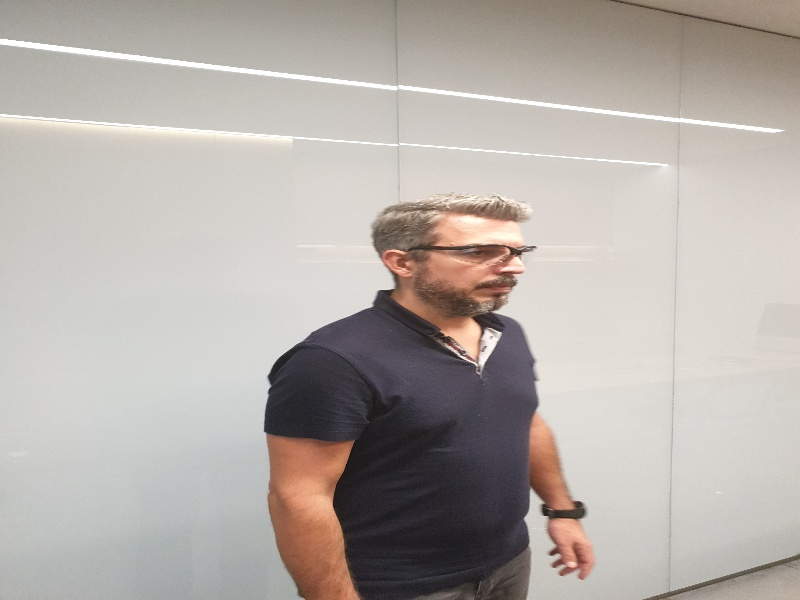Gozluk: (412, 244, 536, 264)
